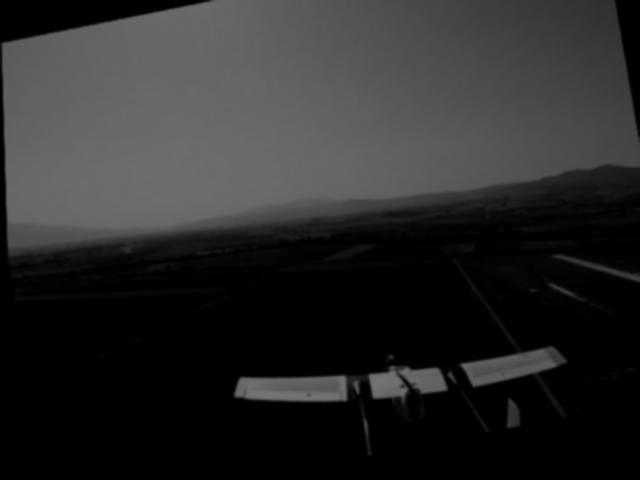hedef: (214, 302, 578, 470)
